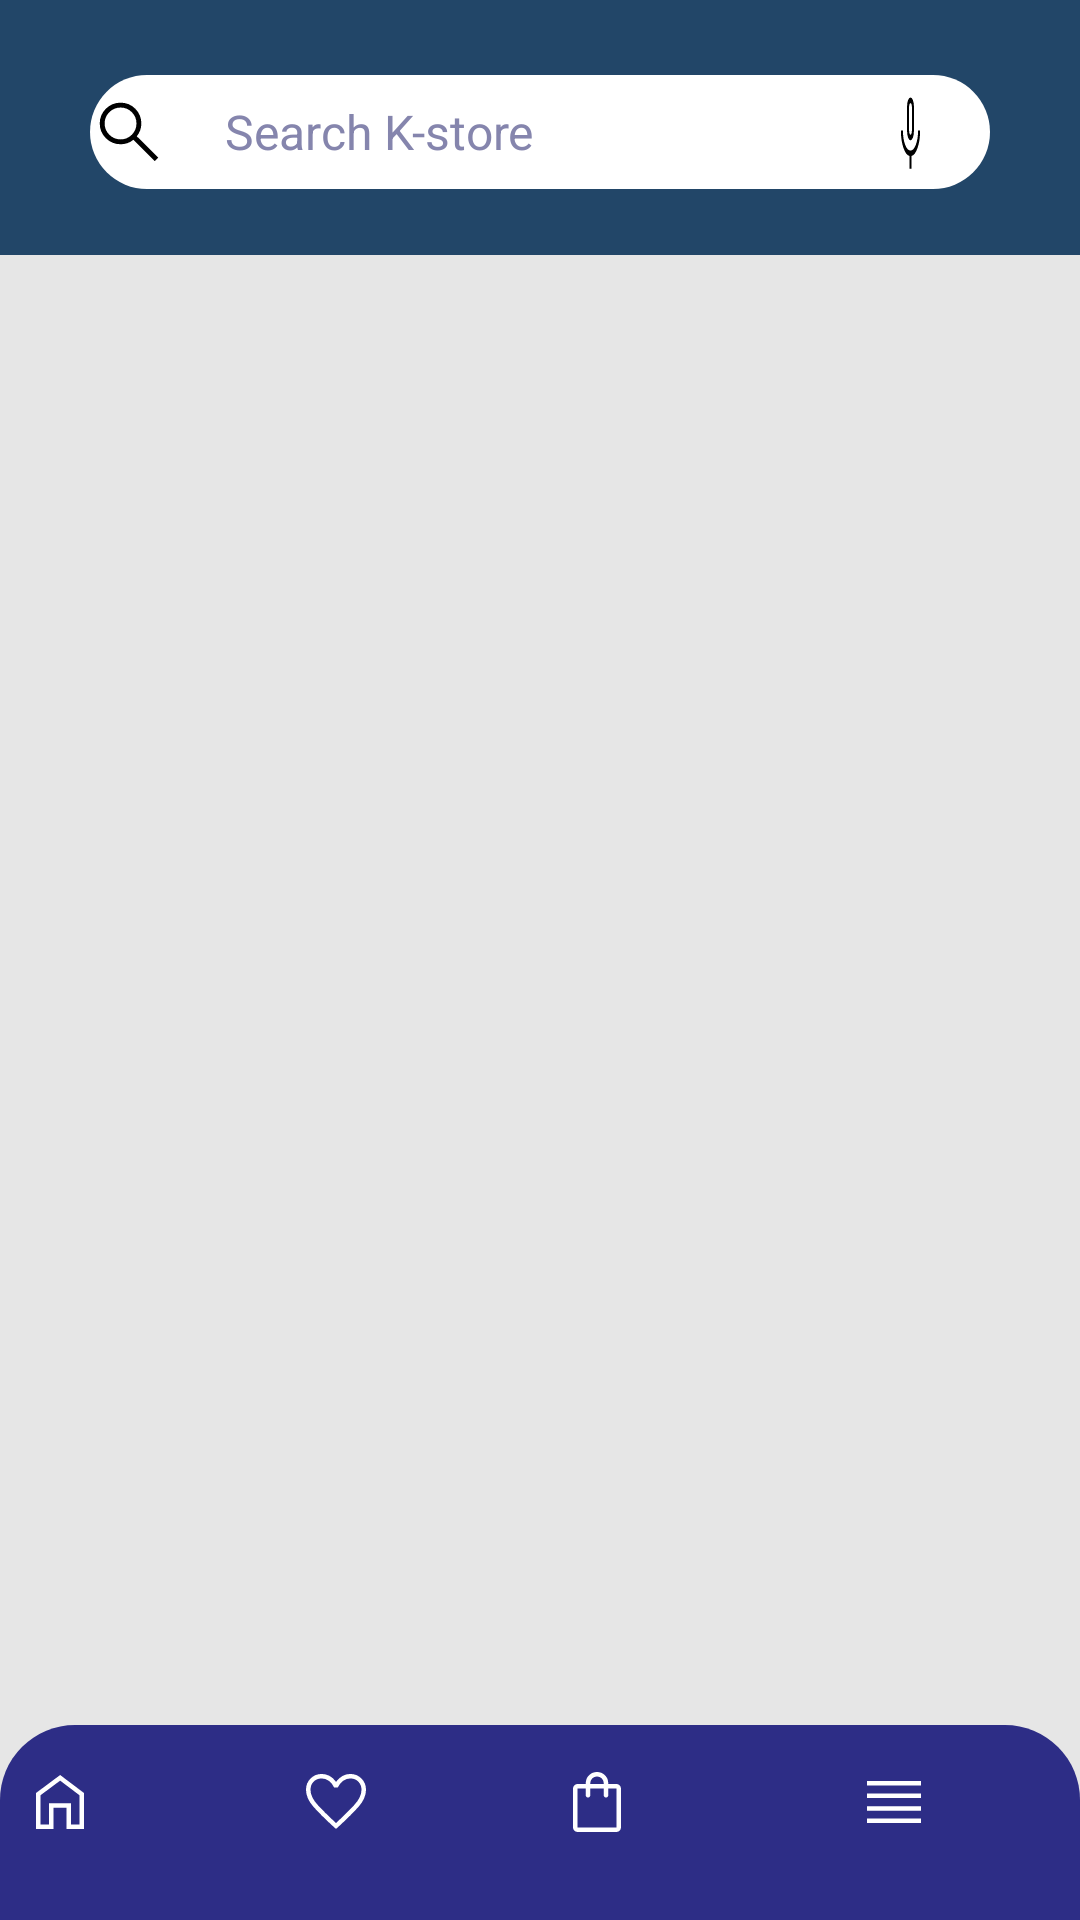

Screen size 1080 x 1920. Icon name, then its box in pixels as (x1, y1, x2, y2):
favorite: (306, 1774, 366, 1829)
home: (36, 1775, 84, 1829)
keyboard voice: (901, 97, 920, 169)
reorder: (867, 1781, 921, 1823)
shopping bag: (573, 1772, 621, 1832)
